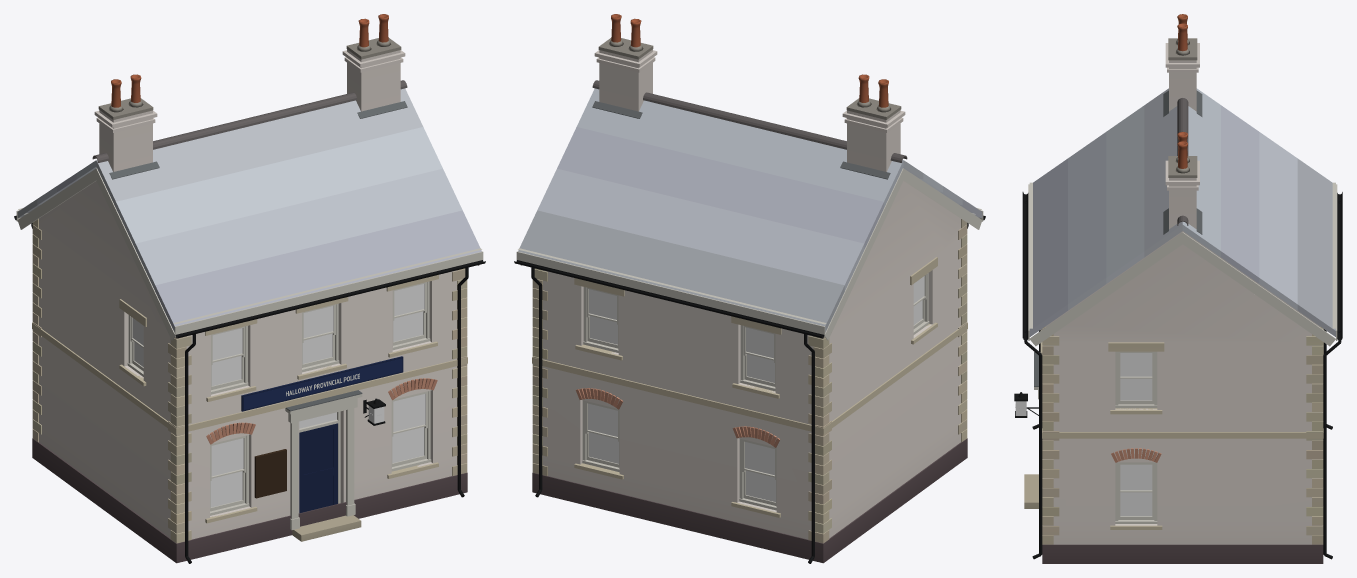
The model's file is town_police_house_a_lod1.glb.
3 renders of one model, left to right at view 1: azimuth 30°, elevation 25°; view 2: azimuth 150°, elevation 25°; view 3: azimuth 270°, elevation 25°, orthographic. The views are drawn at different scales.
Parts seen in each view (by area): view 1: body, door; view 2: body; view 3: body.
Boxes of the visible parts, box(x1,y1,x2,y2) form: body: box(14, 14, 485, 563); door: box(299, 423, 337, 513); body: box(514, 14, 985, 563); body: box(1022, 14, 1342, 563).
Size of what is drawn, in the model's own units: 7.48 by 9.86 by 7.07.
